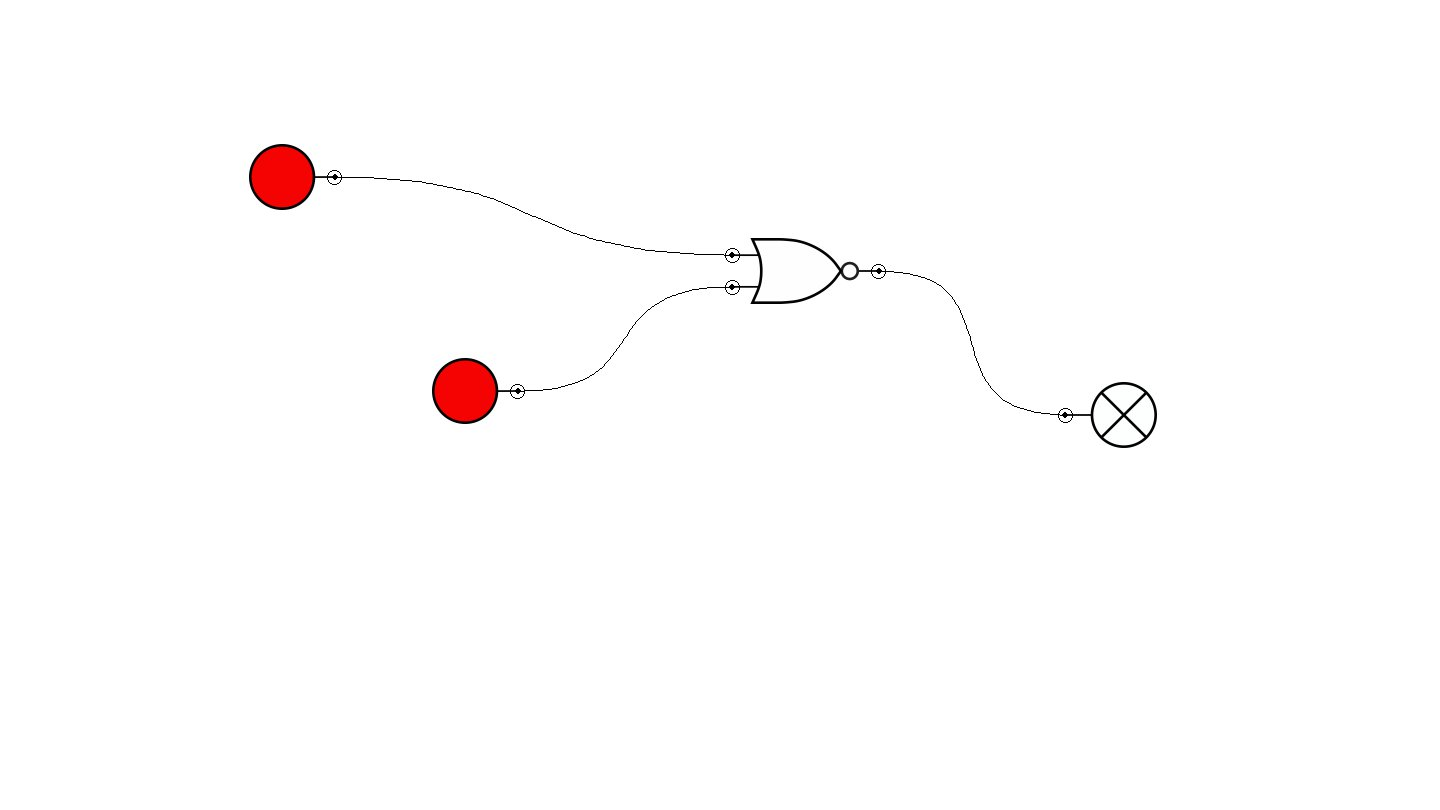bulb: (1058, 382, 1157, 448)
nor: (725, 238, 886, 304)
switch_False: (249, 144, 342, 210), (432, 358, 525, 424)
